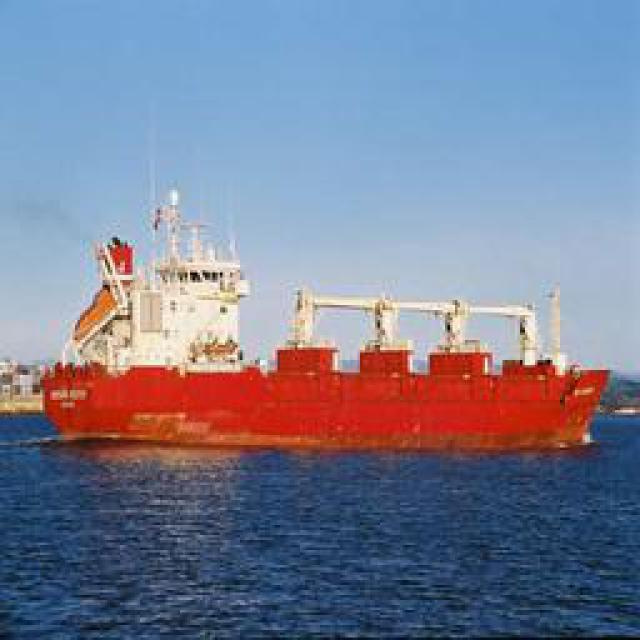Ship: (40, 249, 608, 452)
